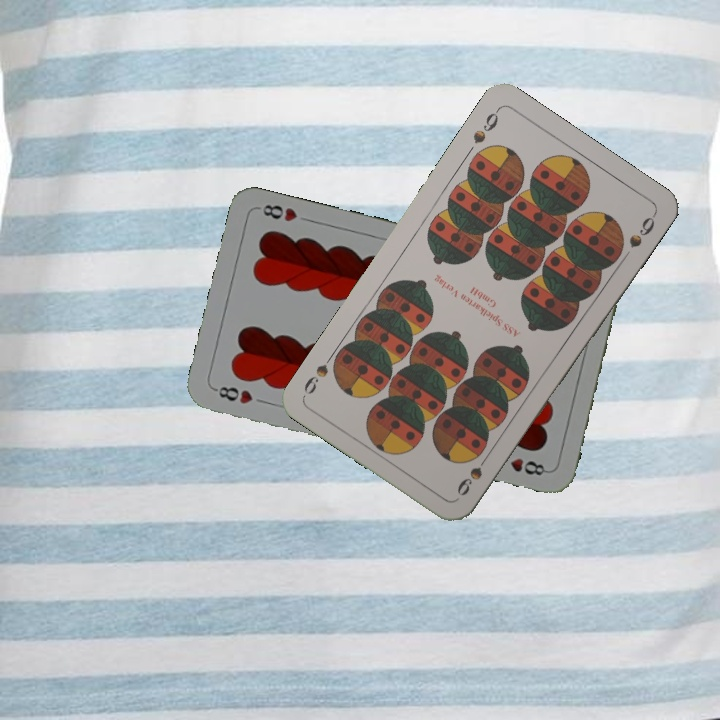H8: (210, 382, 256, 407)
S9: (452, 448, 493, 499), (468, 104, 502, 147)
